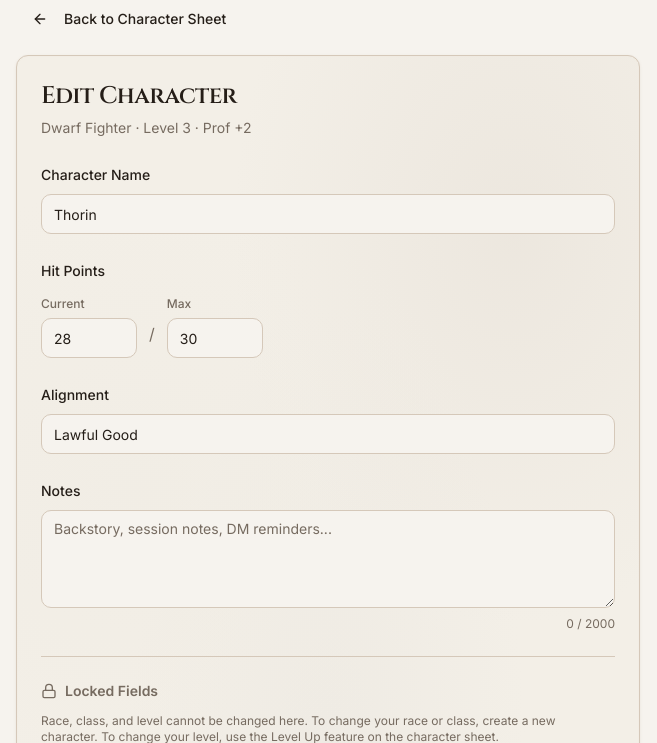
EditCharacter › validates max HP below 1
The width and height of the screenshot is (657, 743).
Replace the text in the number field labelled "Max" with "0" at (215, 338), box [167,318,263,358]
(page scrolled)
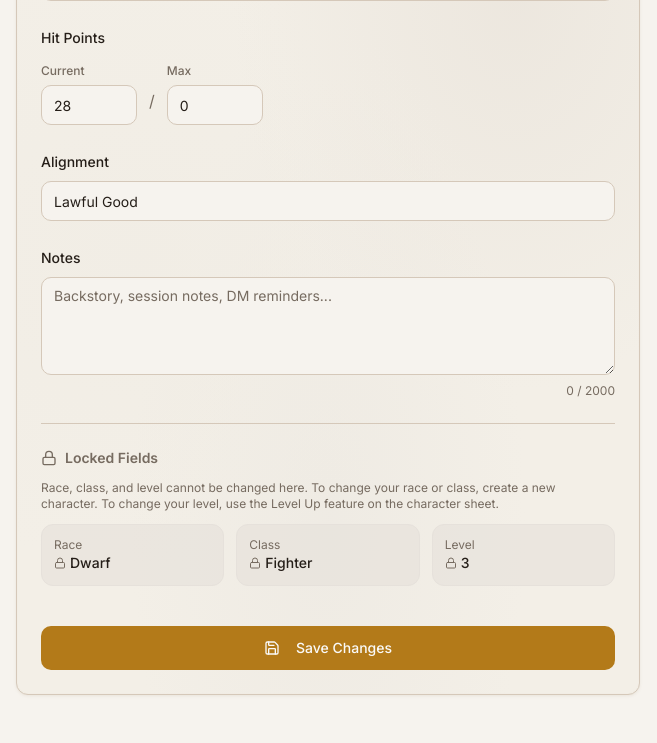
Click the button "Save Changes" at (328, 648), box [41,626,615,670]
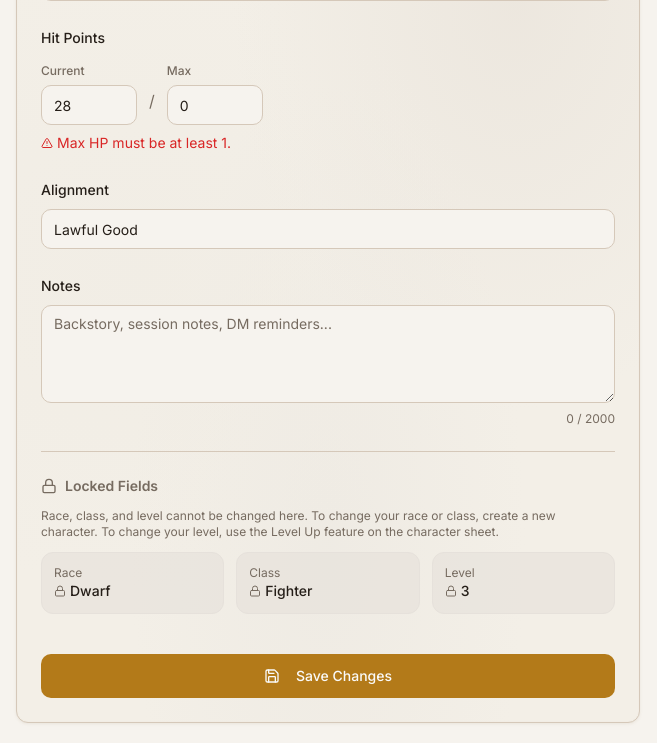
Check: the text "Max HP must be at least 1." is shown, box [41,134,231,151]
